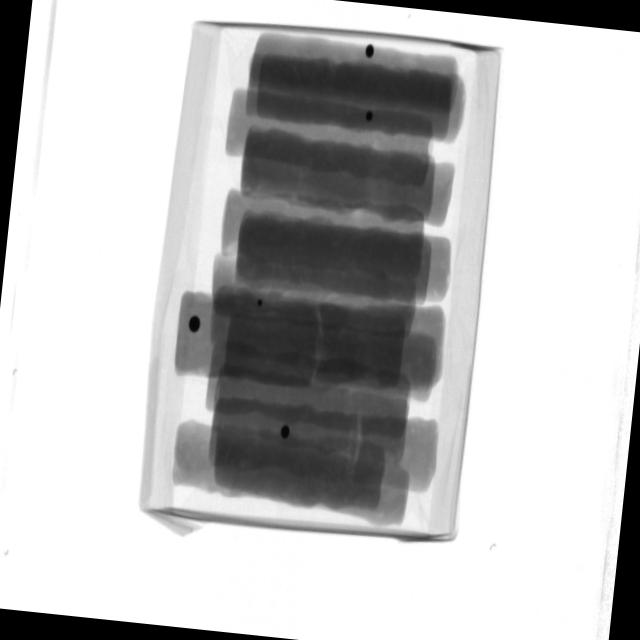ym: (187, 314, 201, 333), (280, 425, 290, 440), (367, 45, 377, 59), (366, 112, 375, 122), (256, 300, 263, 308)
